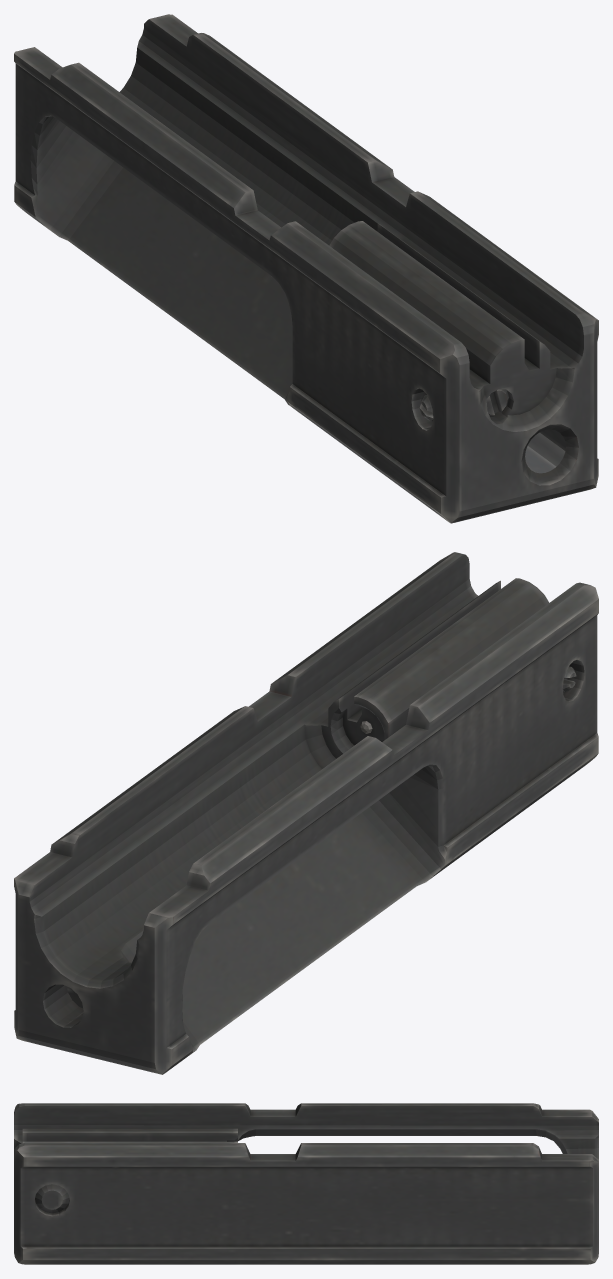
The picture shows the model from 3 angles, top to bottom: view 1: azimuth 30°, elevation 25°; view 2: azimuth 150°, elevation 25°; view 3: azimuth 270°, elevation 25°; orthographic projection. The views are drawn at different scales.
Parts seen in each view (by area): view 1: TW_66992b349950f5f4cd06029f_PZ_Import; view 2: TW_66992b349950f5f4cd06029f_PZ_Import; view 3: TW_66992b349950f5f4cd06029f_PZ_Import.
Boxes of the visible parts, bbox=[...] form: TW_66992b349950f5f4cd06029f_PZ_Import: bbox=[14, 14, 598, 523]; TW_66992b349950f5f4cd06029f_PZ_Import: bbox=[14, 552, 598, 1074]; TW_66992b349950f5f4cd06029f_PZ_Import: bbox=[14, 1103, 598, 1264].
Size of the model in its own units: 0.0188 by 0.0901 by 0.0201.
1 material, 1 textured.
